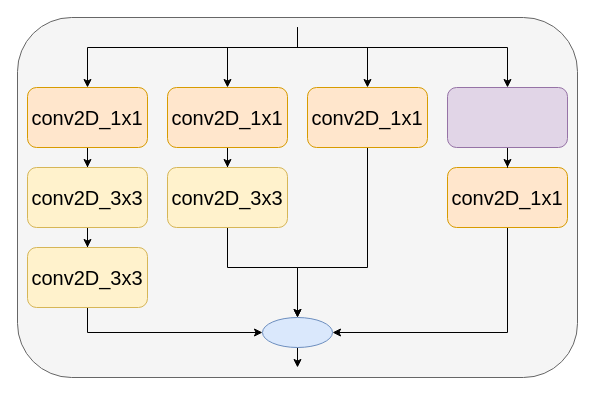
The diagram is 595 pixels wide and 395 high, and some of its shapes have lost their labels. Each missing label, with the centre of its shape:
concat: the point at 297,332
max_pool: the point at 507,117
